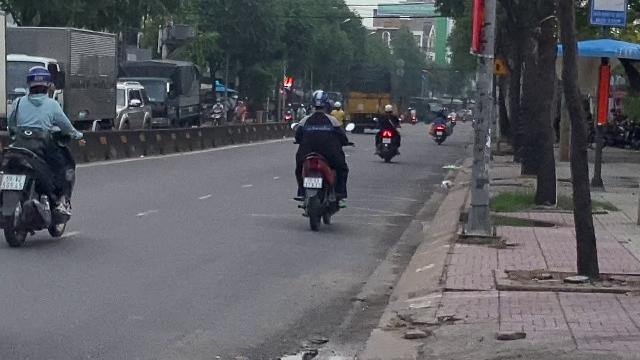helmet: (24, 66, 52, 94), (310, 90, 330, 112)
licenseplate: (1, 174, 25, 190), (303, 176, 321, 187)
motorcyclist: (0, 64, 80, 246), (289, 89, 351, 229)
